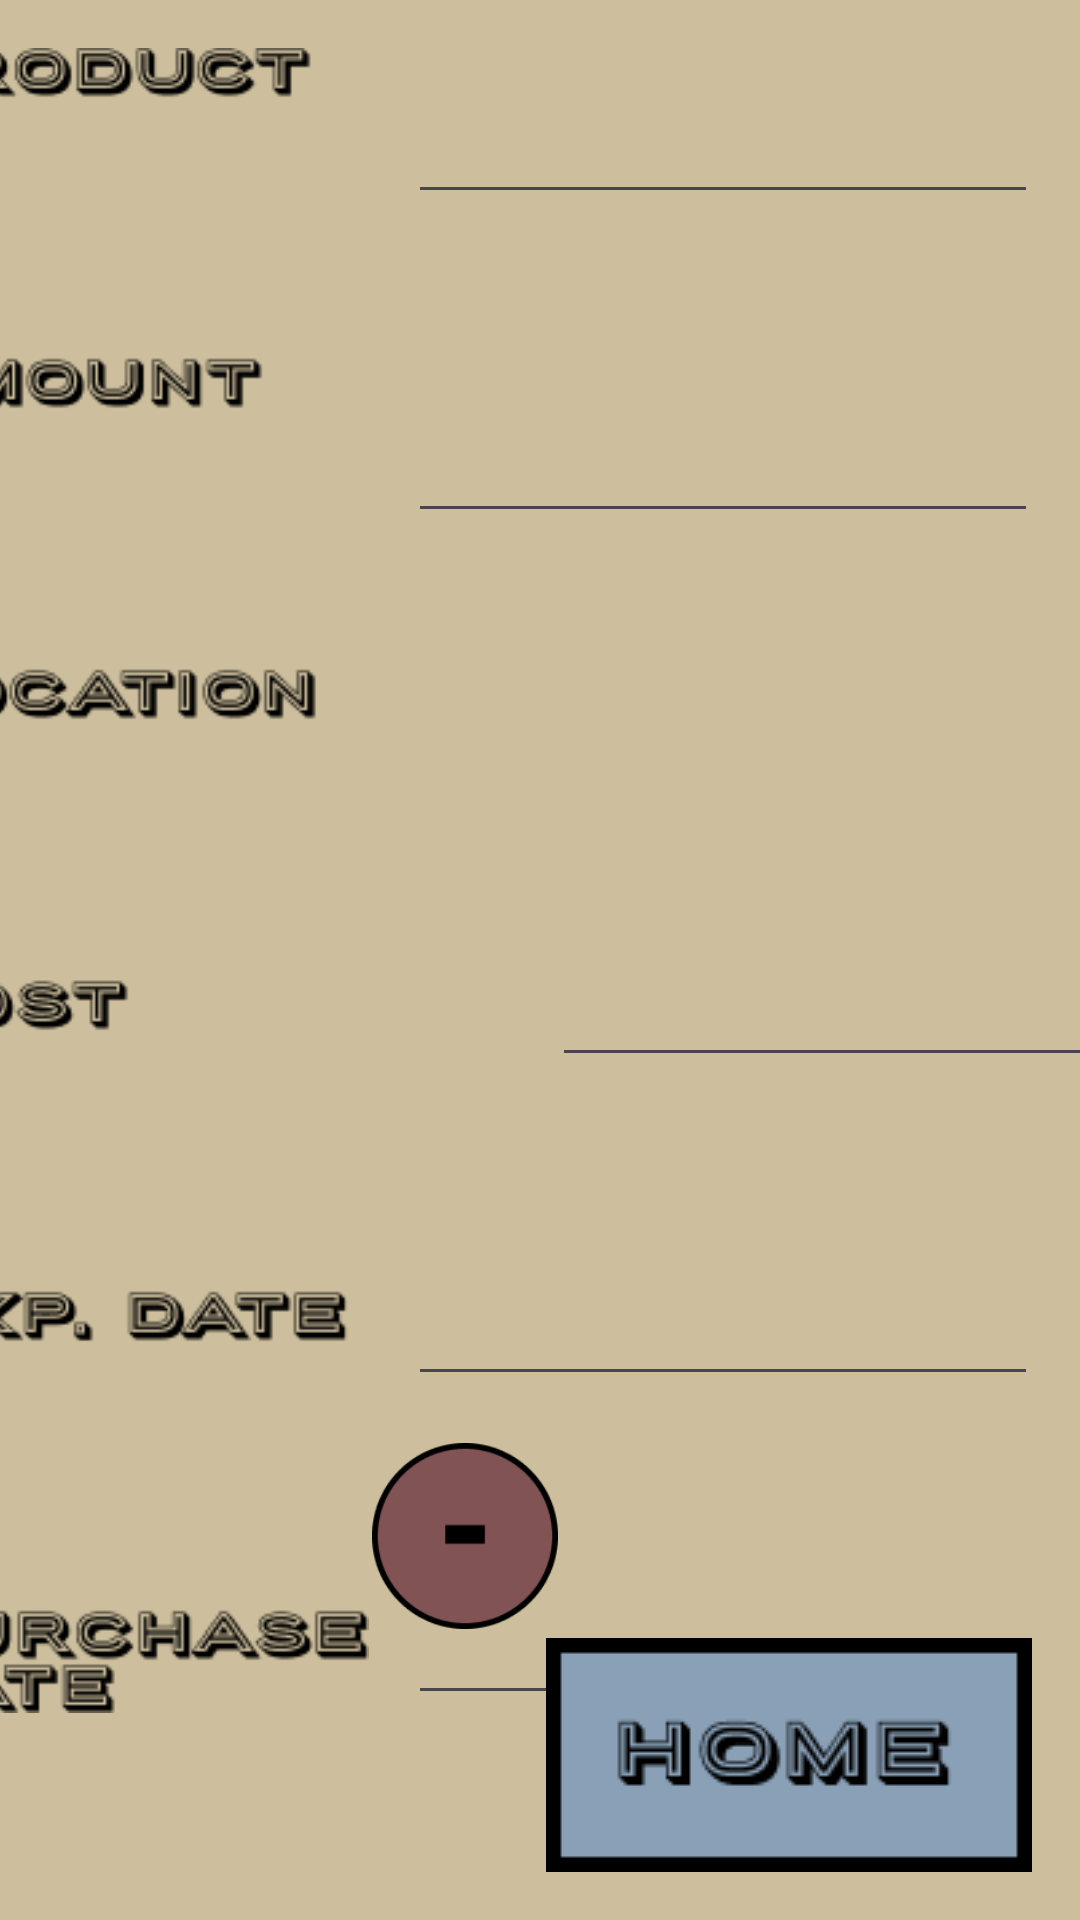

Locate icon controls on the screen. Image size 1080x1920, boxes as (x1=x1, y1=y1, x2=x2, y2=y2).
useminus: (x1=372, y1=1443, x2=558, y2=1629)
